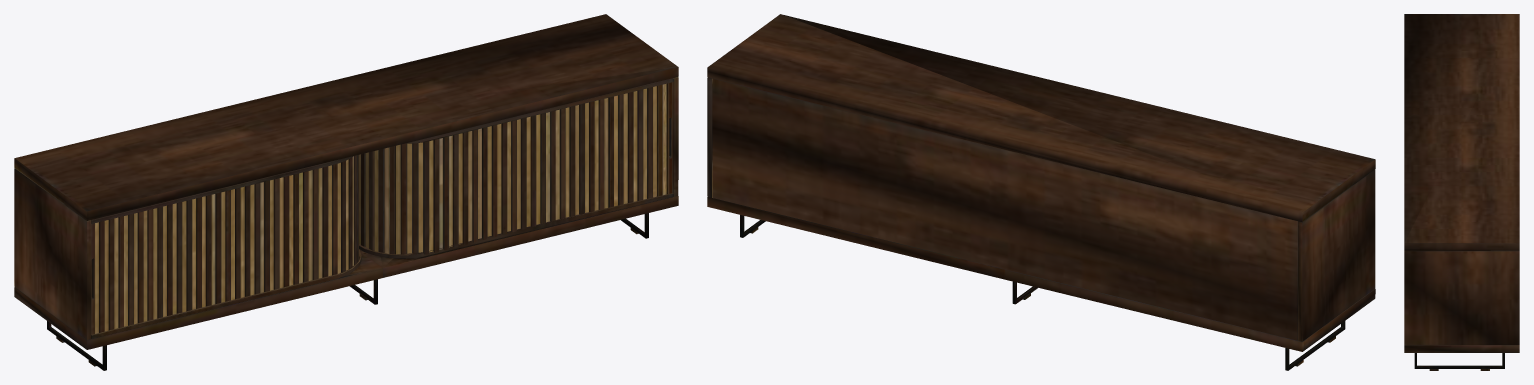
Rendered from modern_wooden_cabinet.glb.
3 renders of one model, left to right at view 1: azimuth 30°, elevation 25°; view 2: azimuth 150°, elevation 25°; view 3: azimuth 270°, elevation 25°, orthographic. The views are drawn at different scales.
Visible parts, largest first — view 1: modern_wooden_cabinet_body, modern_wooden_cabinet_door_r, modern_wooden_cabinet_door_l; view 2: modern_wooden_cabinet_body; view 3: modern_wooden_cabinet_body.
Boxes of the visible parts, x1,y1,x2,y2 form: modern_wooden_cabinet_body: (14, 14, 678, 370); modern_wooden_cabinet_door_r: (359, 82, 672, 254); modern_wooden_cabinet_door_l: (91, 155, 358, 334); modern_wooden_cabinet_body: (707, 14, 1375, 370); modern_wooden_cabinet_body: (1404, 14, 1519, 370).
Size of the model in its own units: 2.44 by 0.6801 by 0.52.
1 material, 1 textured.
